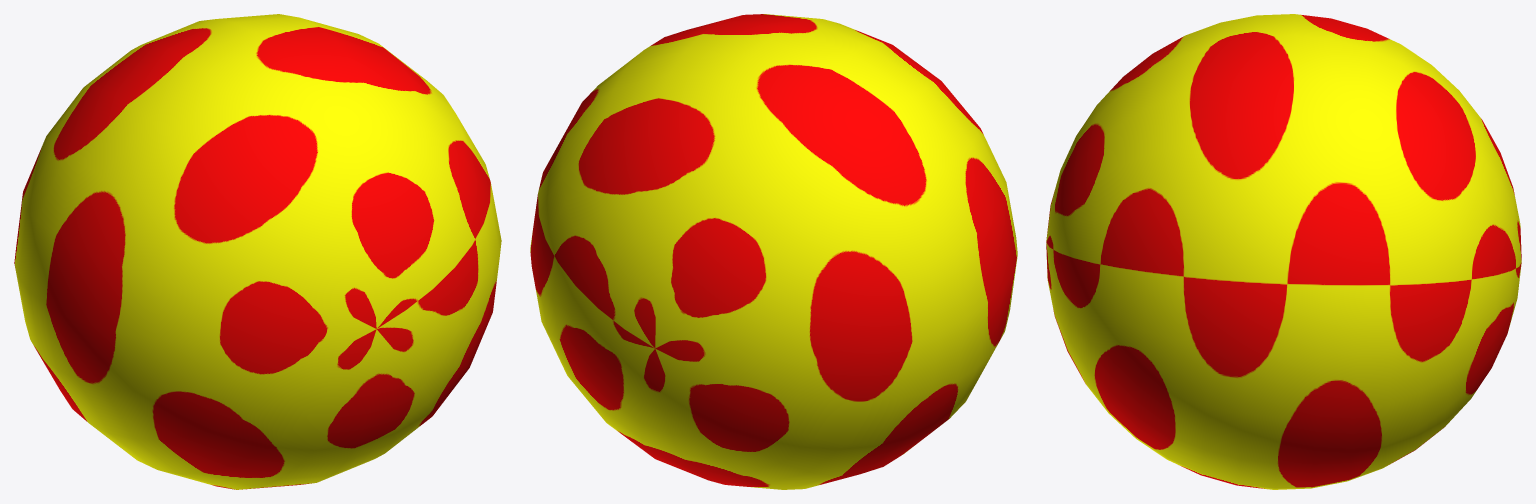
File: rolling ball.fbx
The picture shows the model from 3 angles, left to right: view 1: azimuth 30°, elevation 25°; view 2: azimuth 150°, elevation 25°; view 3: azimuth 270°, elevation 25°; orthographic projection.
Visible parts, largest first — view 1: pSphere1; view 2: pSphere1; view 3: pSphere1.
Part boxes in pixels (left/top/right/bottom): pSphere1: left=14, top=14, right=501, bottom=489; pSphere1: left=530, top=14, right=1017, bottom=489; pSphere1: left=1046, top=14, right=1521, bottom=489.
Size of the model in its own units: 19.62 by 19.01 by 18.93.
1 material, 1 textured.
